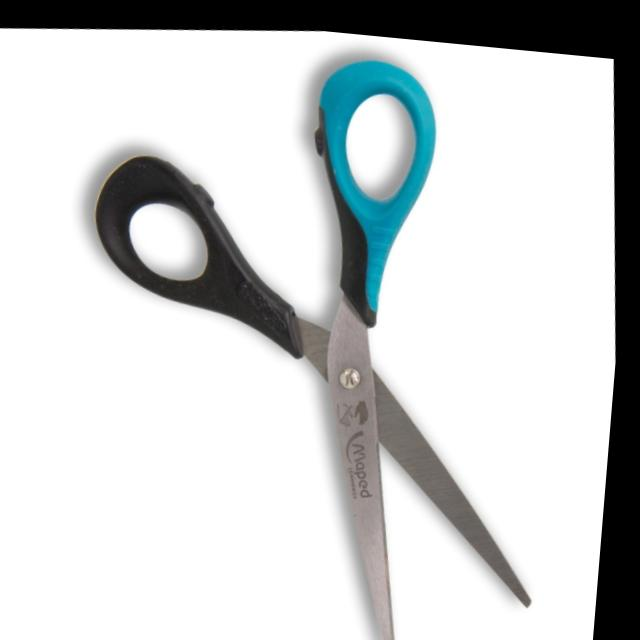scissor: (46, 7, 579, 640)
